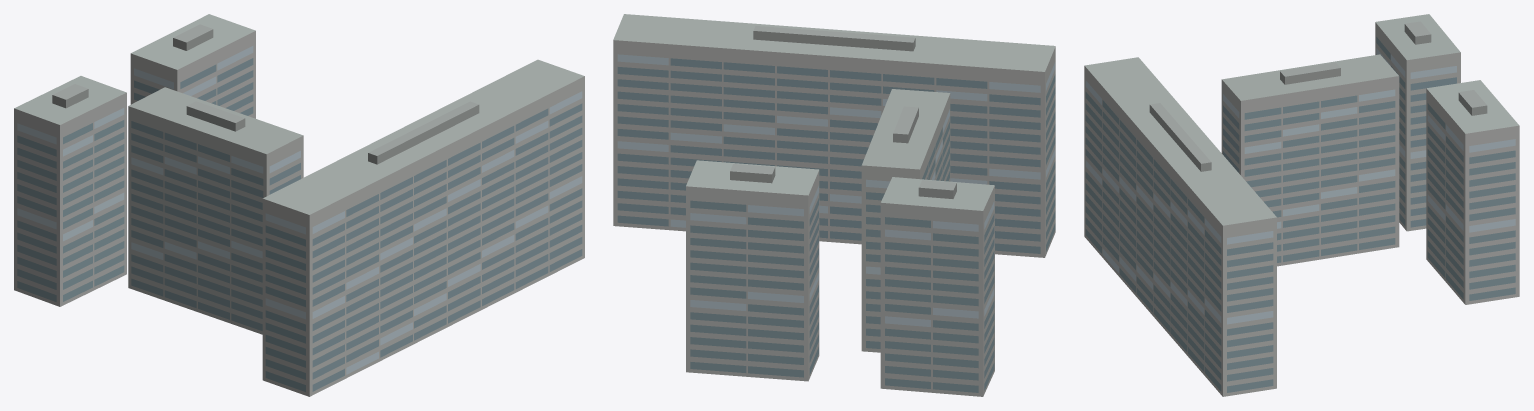
Rendered from apt-a14282301.glb.
3 views of the same model, side by side, from view 1: azimuth 30°, elevation 25°; view 2: azimuth 150°, elevation 25°; view 3: azimuth 270°, elevation 25° (orthographic). The views are drawn at different scales.
Visible parts, largest first — view 1: apt-a14282301; view 2: apt-a14282301; view 3: apt-a14282301.
Boxes of the visible parts, x1=… form: apt-a14282301: x1=14, y1=14, x2=584, y2=396; apt-a14282301: x1=613, y1=14, x2=1055, y2=396; apt-a14282301: x1=1084, y1=14, x2=1519, y2=396.
Size of the model in its own units: 101 by 40 by 87.98.
